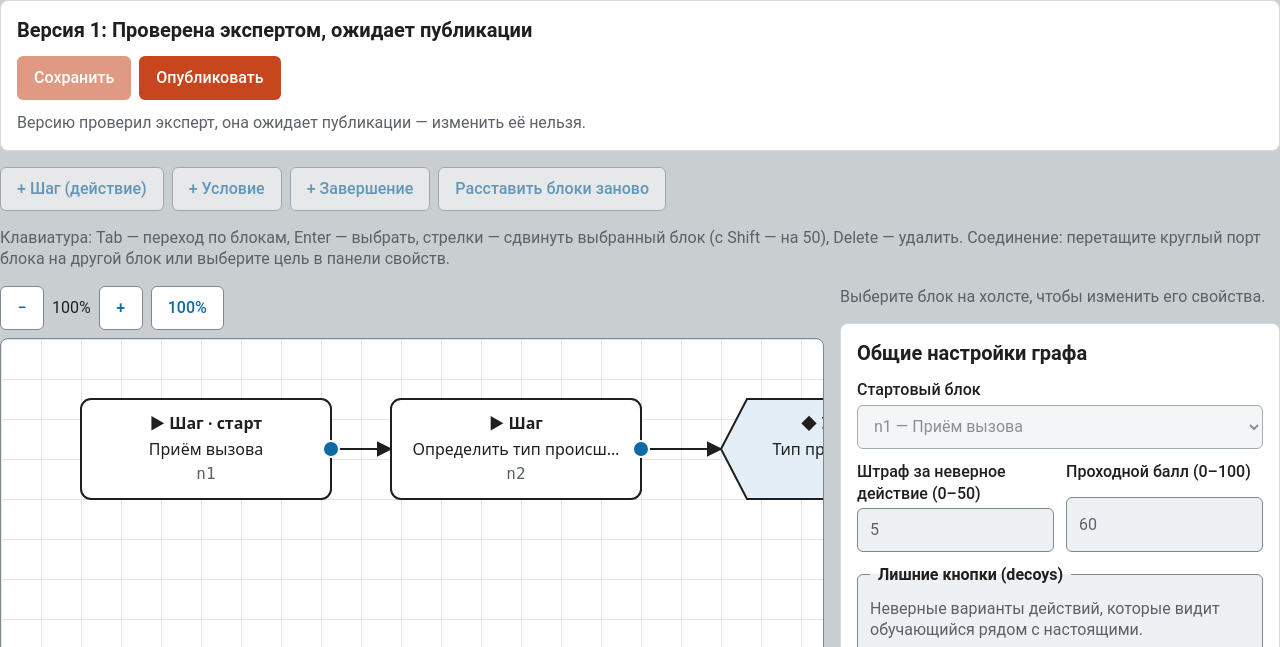
Test: ScenarioGraphEditor: процесс версий и права › публикация доступна только с правом scenario.publish после принятия экспертом
Click the button "Опубликовать" at (210, 78), box 139,56 -> 280,100
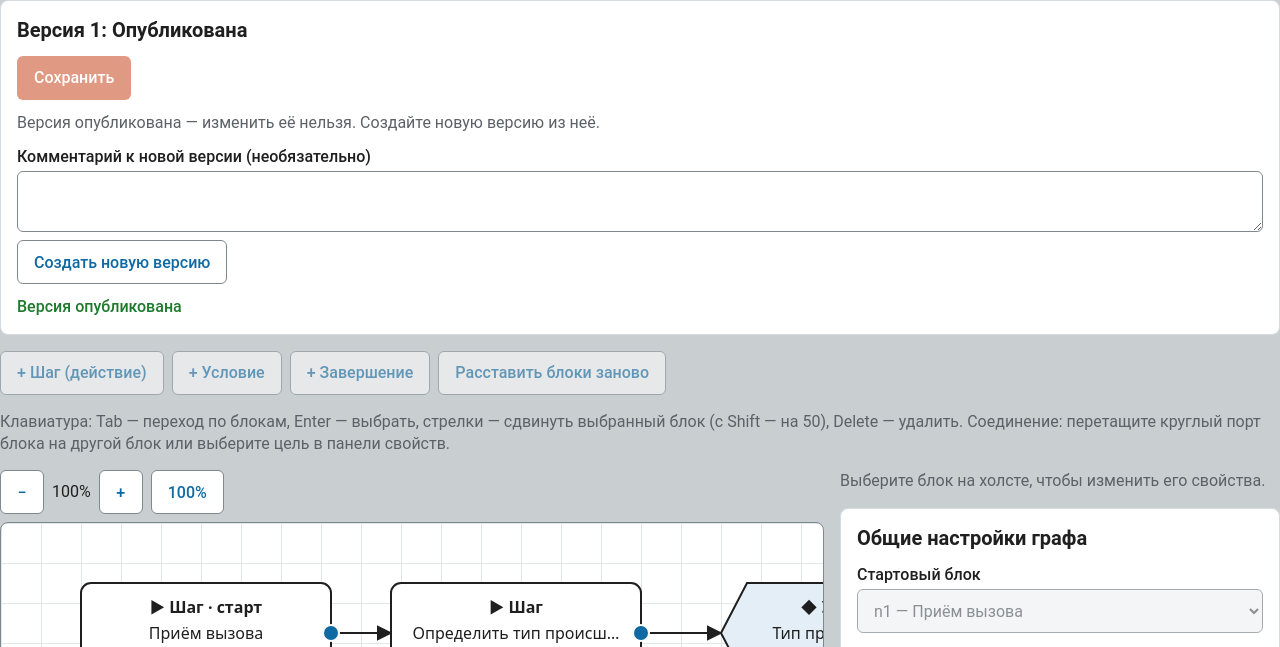
Check: the text with test id "approval-status" reads "Опубликована", box 112,18 -> 247,42
Check: the button "Опубликовать" is gone
